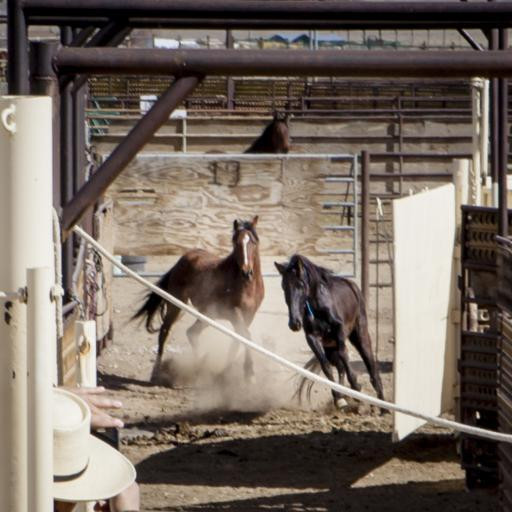Horse: (122, 215, 267, 387), (271, 253, 390, 418)
